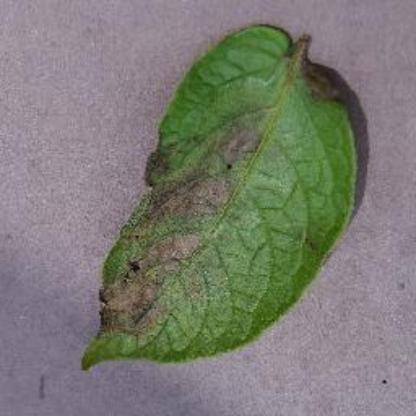Late-Blight: (75, 20, 364, 372)
